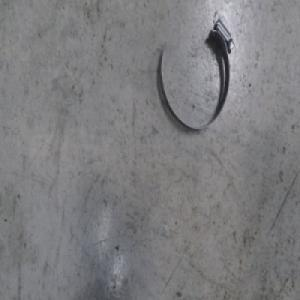AdjustableClamp: (158, 15, 235, 135)
